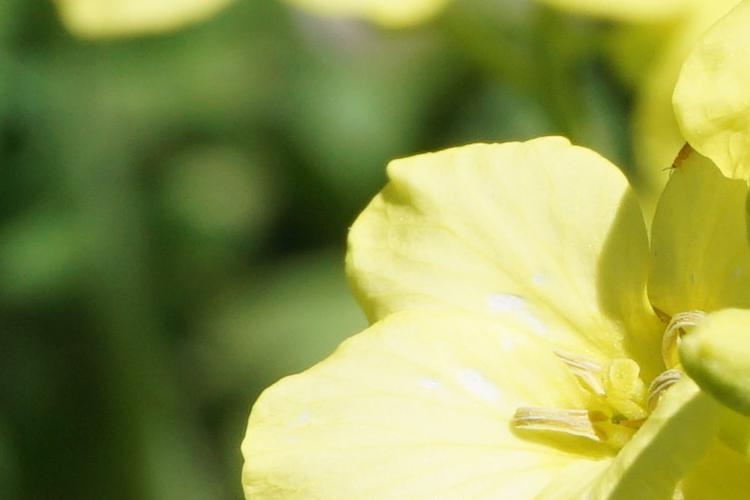yellow: (336, 153, 746, 500)
